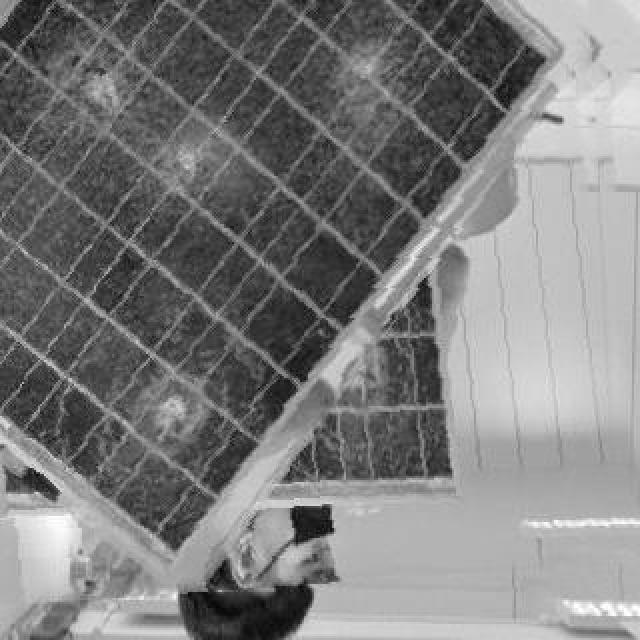Physical-damage: (46, 30, 148, 158), (322, 24, 417, 136), (128, 358, 221, 460), (158, 108, 238, 223), (327, 340, 388, 427)
